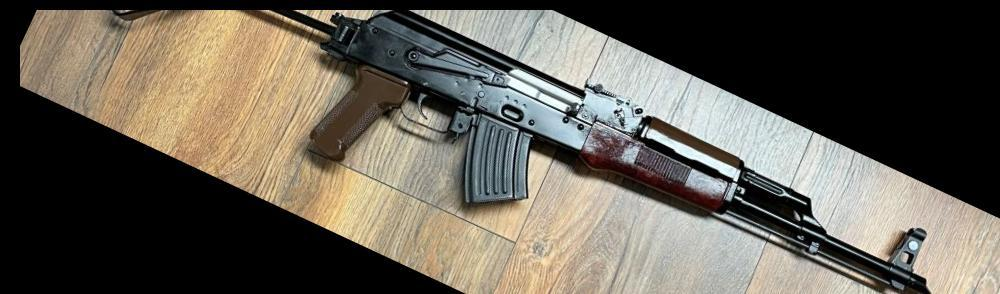larga: (110, 9, 936, 294)
